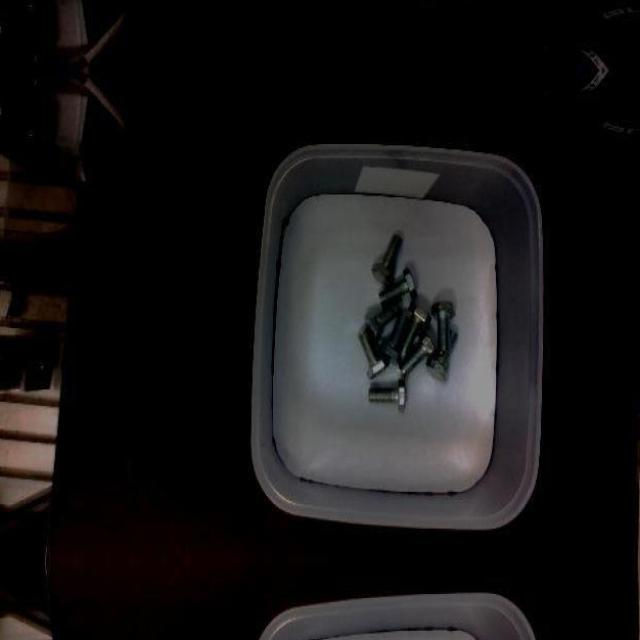screw: (398, 328, 437, 377), (371, 233, 403, 284), (358, 327, 389, 379), (400, 303, 431, 354), (377, 266, 417, 305), (364, 302, 401, 342), (430, 299, 455, 354), (368, 378, 406, 412)
